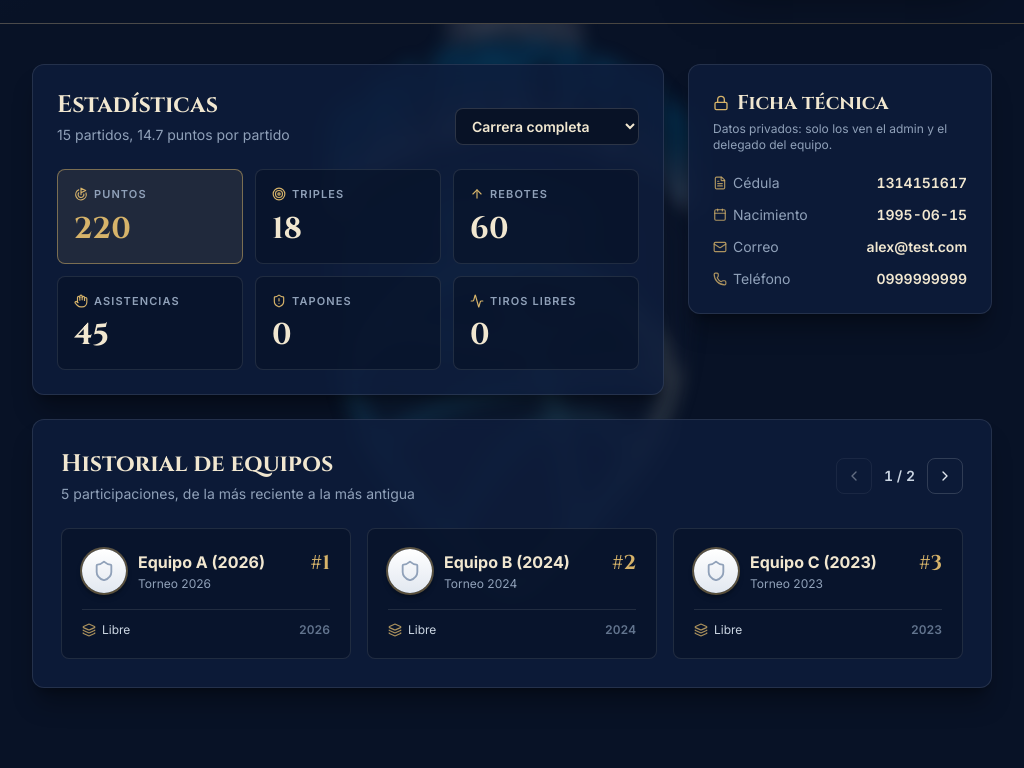
Scenario: JugadorProfile › pagina las participaciones mostrando un máximo de 3 a la vez y permite navegar adelante y atrás sin duplicar
(page scrolled)
Expected: the link "Equipo A (2026)" is shown, [138, 550, 265, 574]
Expected: the link "Equipo B (2024)" is shown, [444, 550, 570, 574]
Note: Navegar a la página 2
What coordinates should you click on to do the following:
click the button named "página siguiente"
I would click on:
 (945, 476)
Its box is [927, 458, 963, 494].
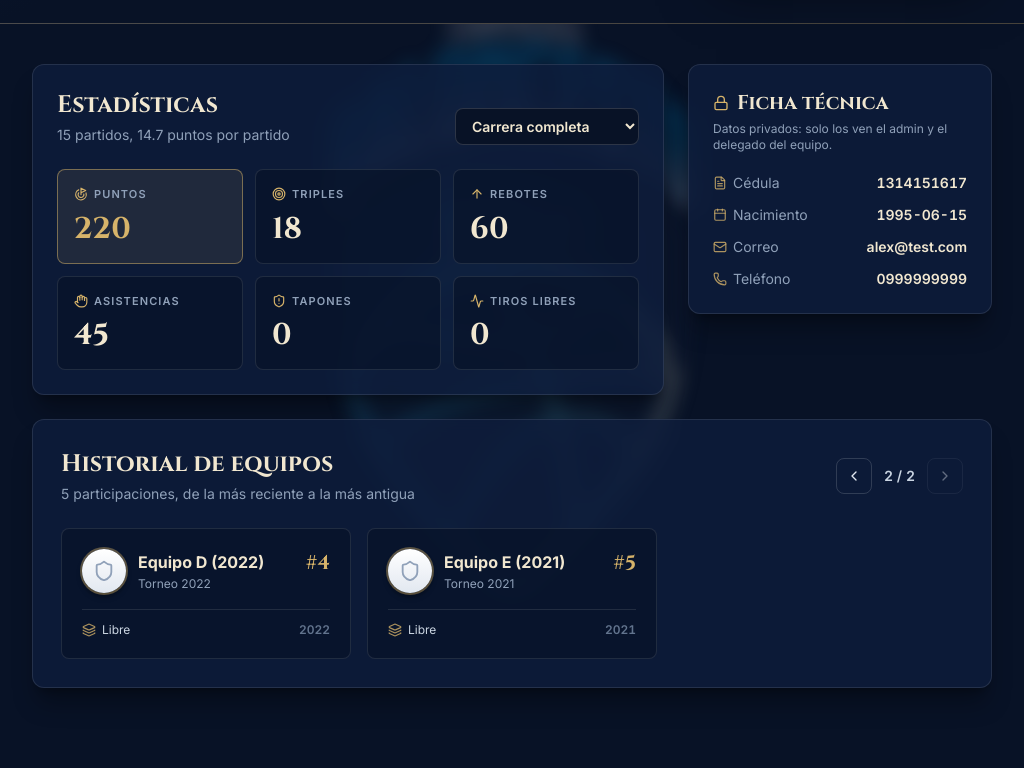
Result: the link "Equipo E (2021)" is shown at [444, 550, 565, 574]
Result: the link "Equipo D (2022)" is shown at [138, 550, 264, 574]
Result: the text "2 / 2" is shown at [884, 467, 915, 484]
Note: Navegar de vuelta a la página 1
What coordinates should you click on to do the following:
click the button named "página anterior"
I would click on:
 (854, 476)
Its box is [836, 458, 872, 494].
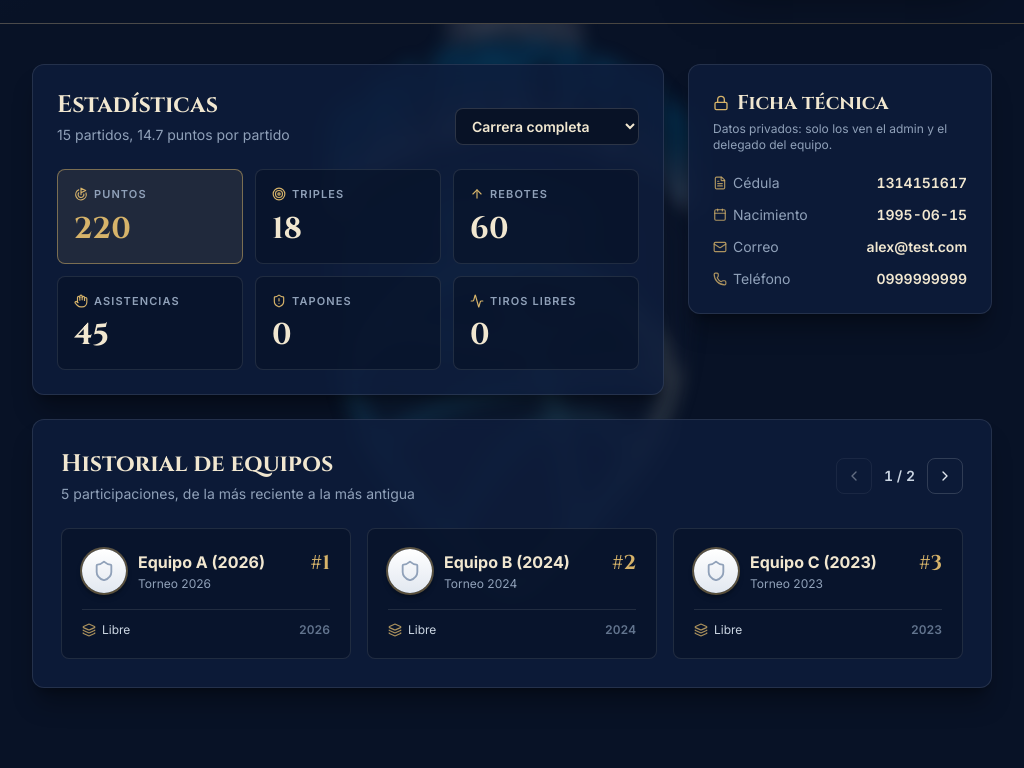
Result: the link "Equipo A (2026)" is shown at [138, 550, 265, 574]
Result: the link "Equipo E (2021)" is gone
Result: the text "1 / 2" is shown at [884, 467, 915, 484]
